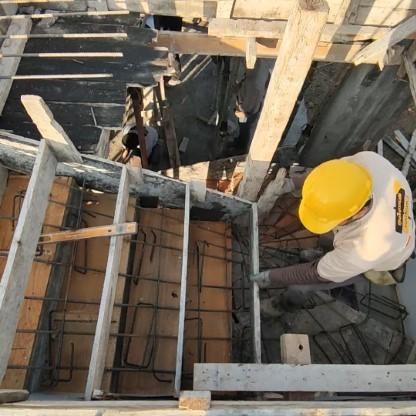helmet: (285, 159, 377, 241)
